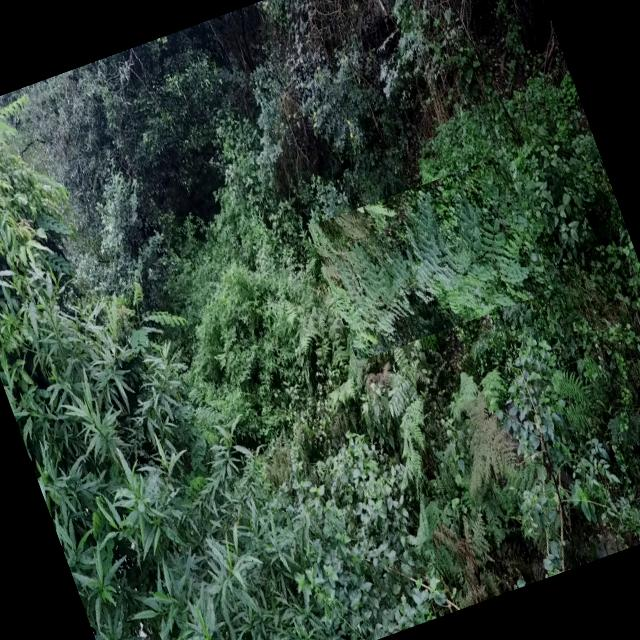Mysore-Thorn-Weed: (308, 156, 554, 362)
